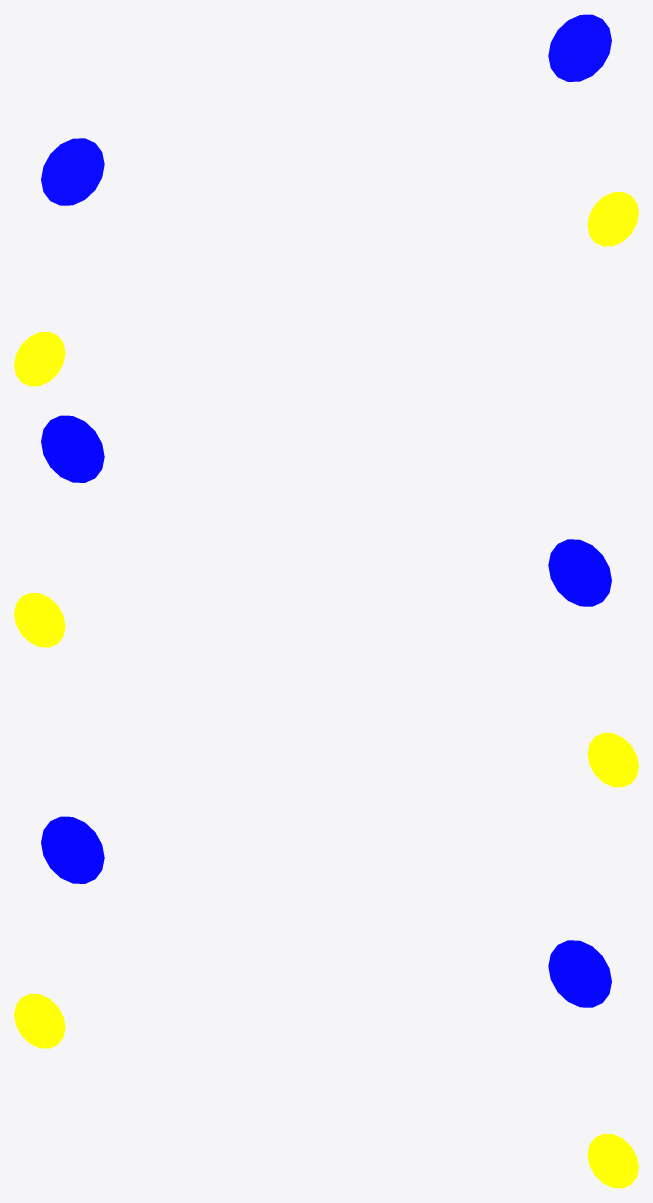
The model's file is 1StageGenericOrganLightsMiddle.glb.
3 views of the same model, one above another, from view 1: azimuth 30°, elevation 25°; view 2: azimuth 150°, elevation 25°; view 3: azimuth 330°, elevation 25° (orthographic).
Visible parts, largest first — view 1: OrganLightsMiddle; view 2: OrganLightsMiddle; view 3: OrganLightsMiddle.
Boxes of the visible parts, bbox=[...] form: OrganLightsMiddle: bbox=[14, 14, 638, 386]; OrganLightsMiddle: bbox=[14, 415, 638, 787]; OrganLightsMiddle: bbox=[14, 816, 638, 1188].
Size of the model in its own units: 1.06 by 0.3877 by 2.27e-07.
